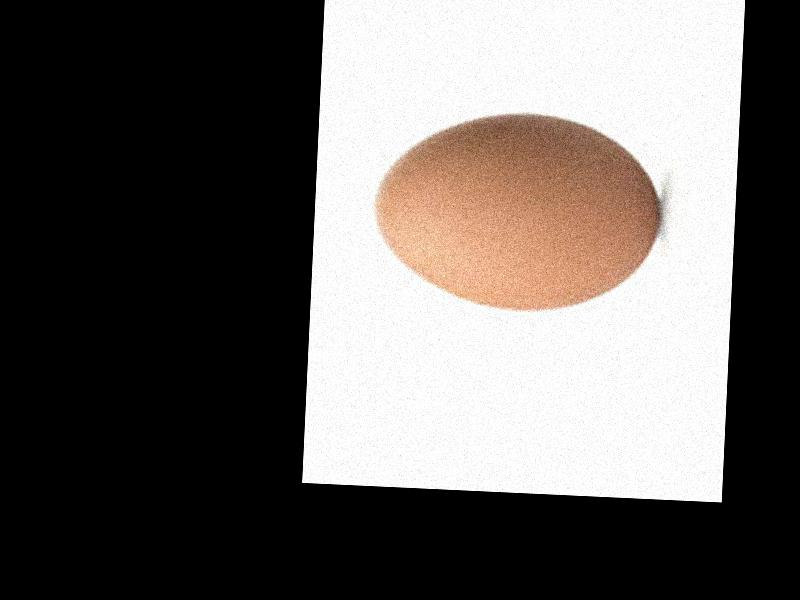Eggs: (374, 107, 666, 314)
